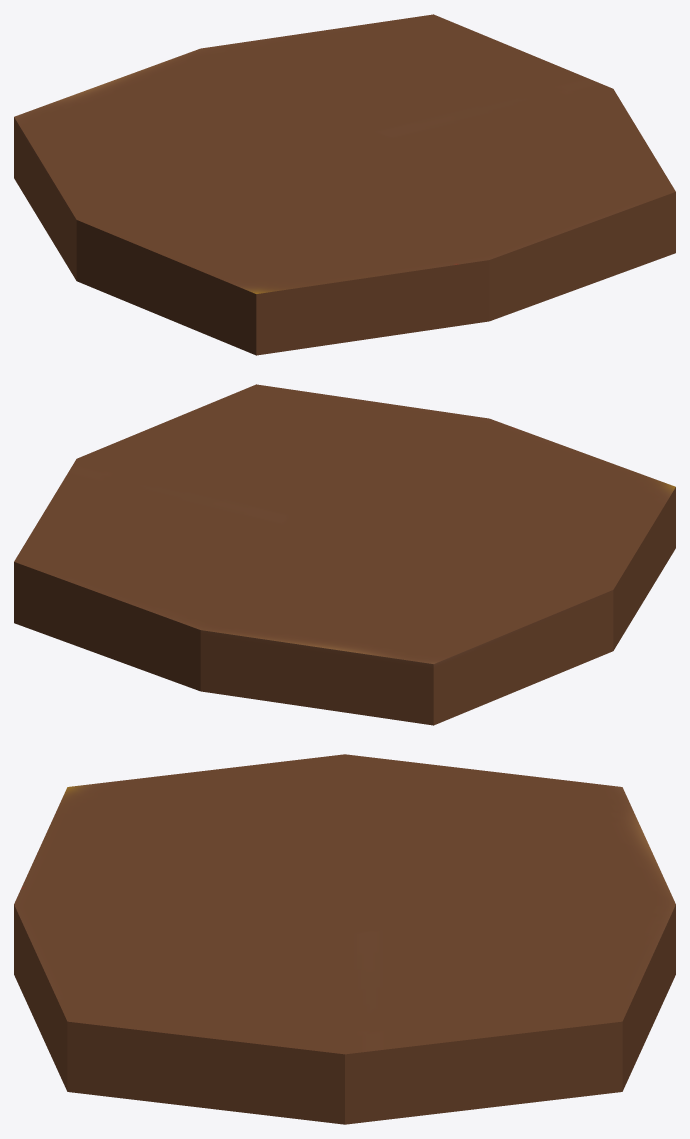
File: Meat.glb
3 renders of one model, top to bottom at view 1: azimuth 30°, elevation 25°; view 2: azimuth 150°, elevation 25°; view 3: azimuth 270°, elevation 25°, orthographic. The views are drawn at different scales.
Visible parts, largest first — view 1: Hamburguer; view 2: Hamburguer; view 3: Hamburguer.
Part boxes in pixels (<box>): Hamburguer: <box>14,14,675,355</box>; Hamburguer: <box>14,384,675,725</box>; Hamburguer: <box>14,754,675,1124</box>.
Bounding box in the file's own units: 2.63 × 0.2876 × 2.45.
1 material, 1 textured.
